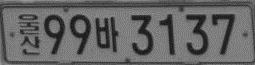1: (157, 13, 181, 55)
3: (130, 13, 153, 56), (185, 13, 208, 55)
7: (211, 13, 236, 54)
9: (69, 13, 91, 54), (44, 14, 65, 54)
바: (94, 16, 119, 52)
울산_V: (16, 13, 42, 55)
